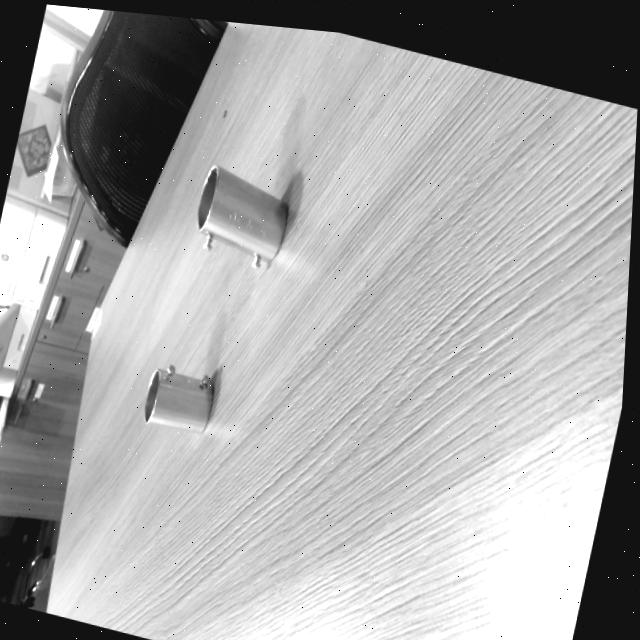Co_Lon: (174, 162, 300, 283)
Co_Nho: (141, 361, 219, 436)
